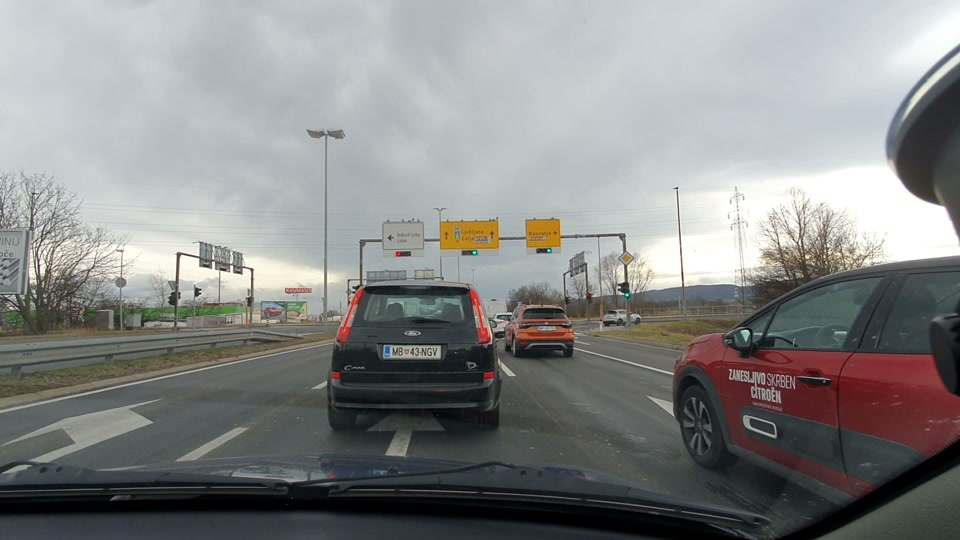vehicle_ign: (670, 248, 960, 540), (333, 270, 509, 438), (509, 301, 577, 362)
